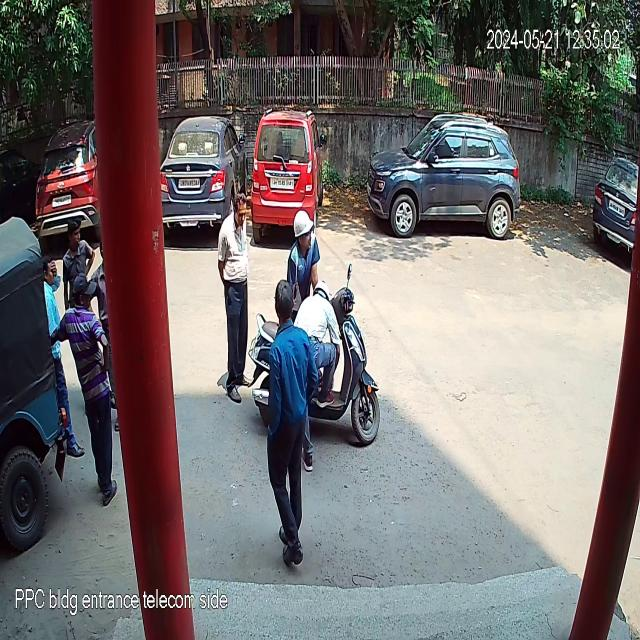Hardhat: (288, 208, 319, 264), (309, 271, 330, 310)
NO-Boots: (311, 378, 339, 414), (280, 538, 304, 577), (219, 380, 247, 408), (275, 516, 303, 540), (299, 442, 317, 475), (102, 470, 118, 506), (233, 370, 255, 392), (66, 436, 86, 460), (92, 467, 108, 494), (54, 426, 72, 443), (106, 390, 118, 411), (113, 412, 122, 434)
NO-Hardhat: (269, 272, 300, 325), (226, 190, 254, 230), (70, 270, 96, 312), (37, 249, 62, 292), (59, 214, 85, 252)
Person: (54, 285, 118, 510), (217, 192, 254, 391)
